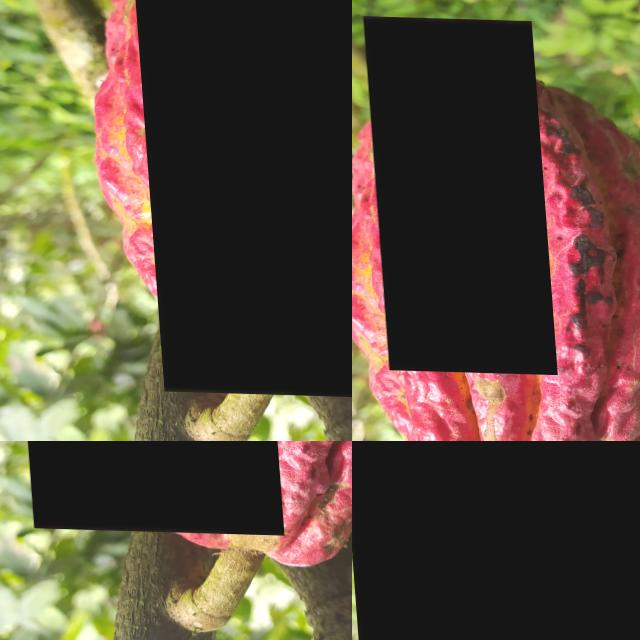Monilia: (363, 15, 552, 373), (3, 441, 276, 533)
Sana: (128, 0, 352, 396), (352, 441, 640, 640), (500, 175, 640, 402)
